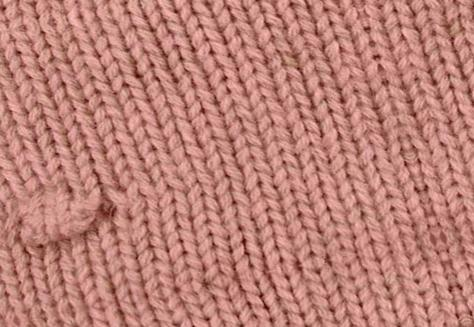knot: (16, 183, 116, 248)
